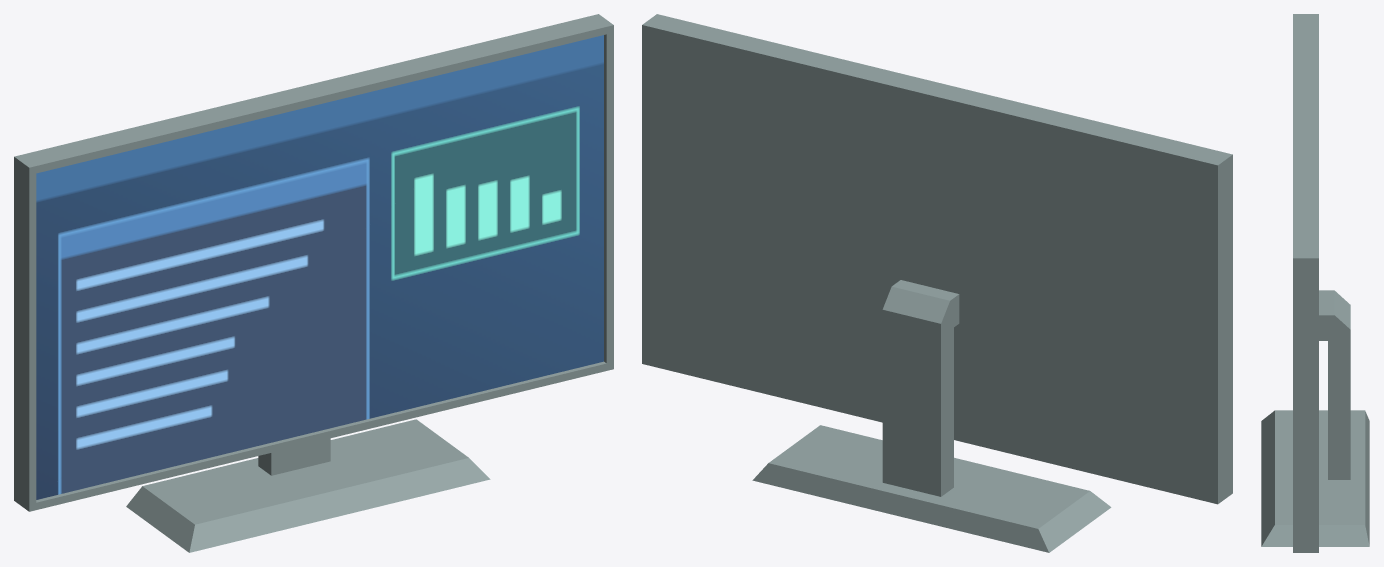
Rendered from televisionModern.glb.
3 renders of one model, left to right at view 1: azimuth 30°, elevation 25°; view 2: azimuth 150°, elevation 25°; view 3: azimuth 270°, elevation 25°, orthographic. The views are drawn at different scales.
Visible parts, largest first — view 1: televisionModern; view 2: televisionModern; view 3: televisionModern.
Boxes of the visible parts, x1,y1,x2,y2 form: televisionModern: (14,14,613,552); televisionModern: (642,14,1232,552); televisionModern: (1261,14,1369,552).
Bounding box in the file's own units: 0.6848 × 0.4548 × 0.1284.
